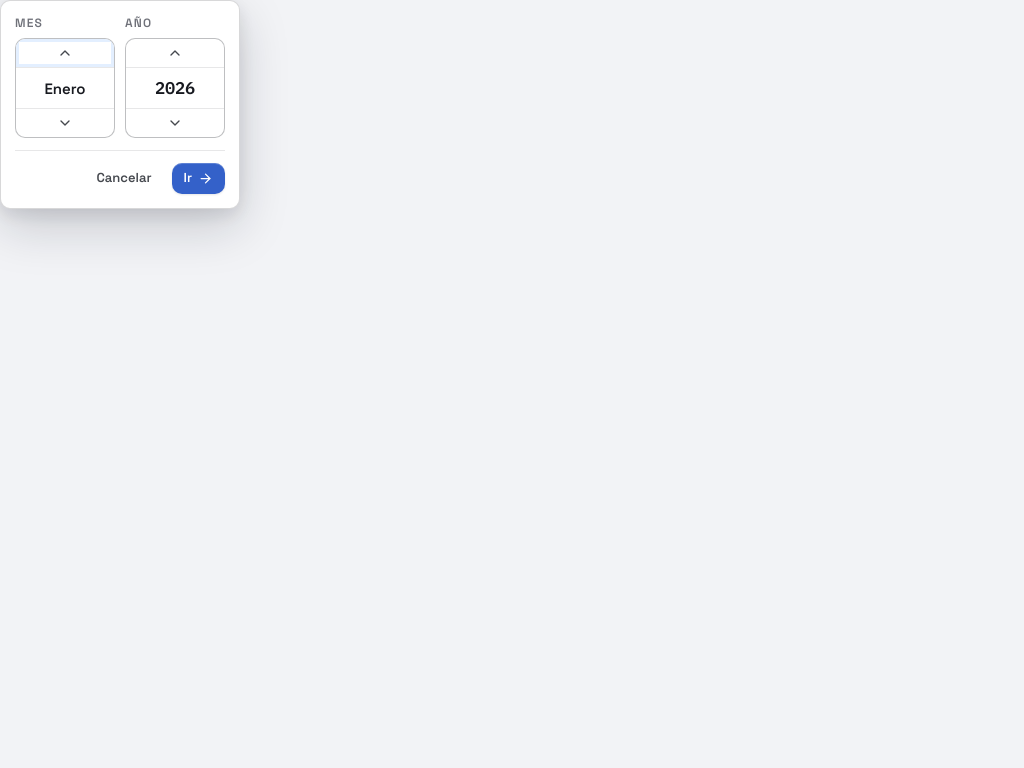
Scenario: MonthJumpPanel › ▼ en Enero wrappea a Diciembre SIN modificar el año (ruedas independientes)
Expected: the dialog is shown, top-left (0, 0), bottom-right (240, 209)
Click the button named "Mes anterior": (65, 123) top-left (16, 109), bottom-right (114, 137)
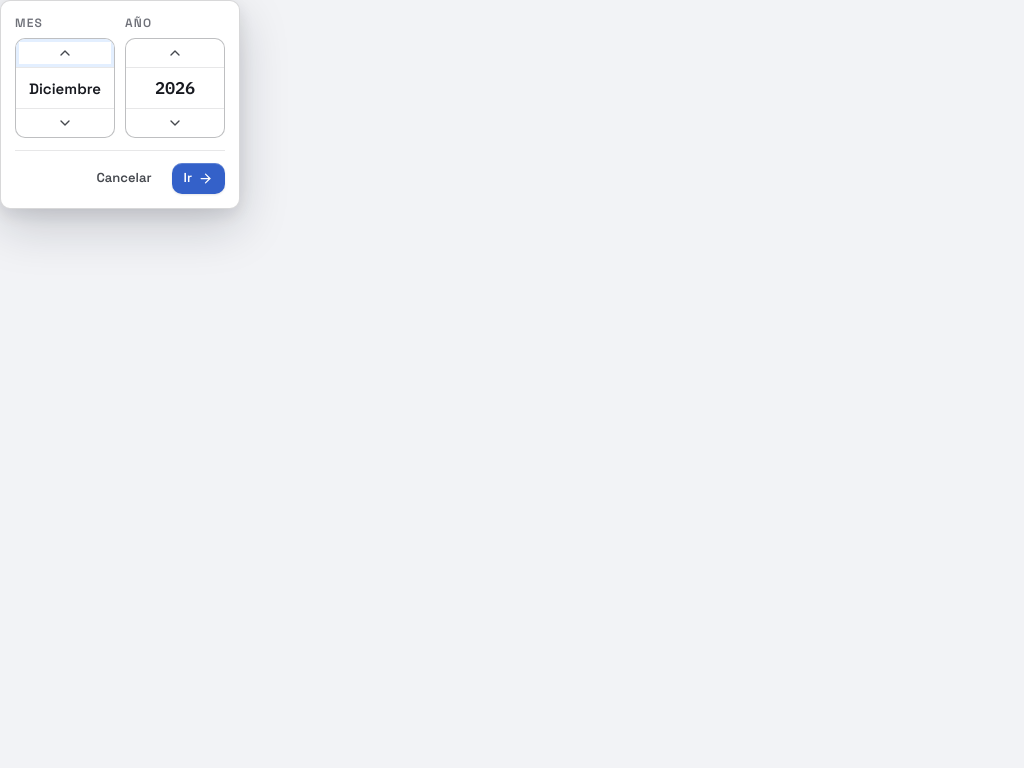
Expected: the field named "Año" holds "2026", top-left (126, 68), bottom-right (224, 108)
Now the text "Diciembre" is shown, box top-left (29, 78), bottom-right (101, 98)
